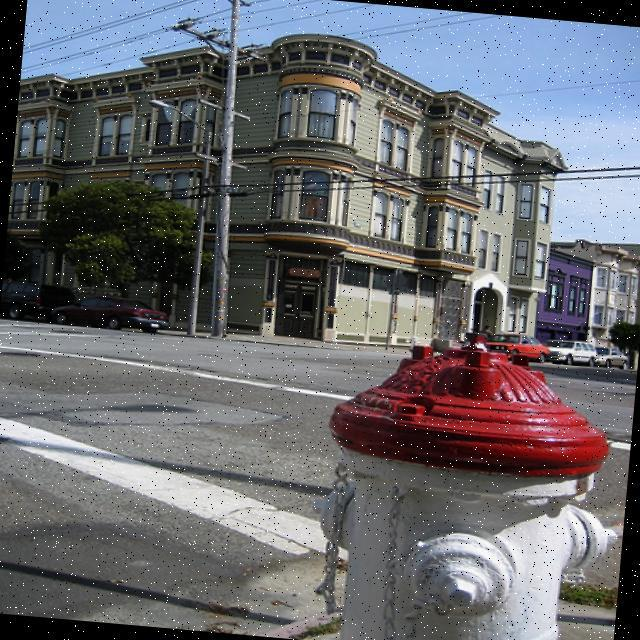fire_hydrant: (309, 320, 632, 640)
